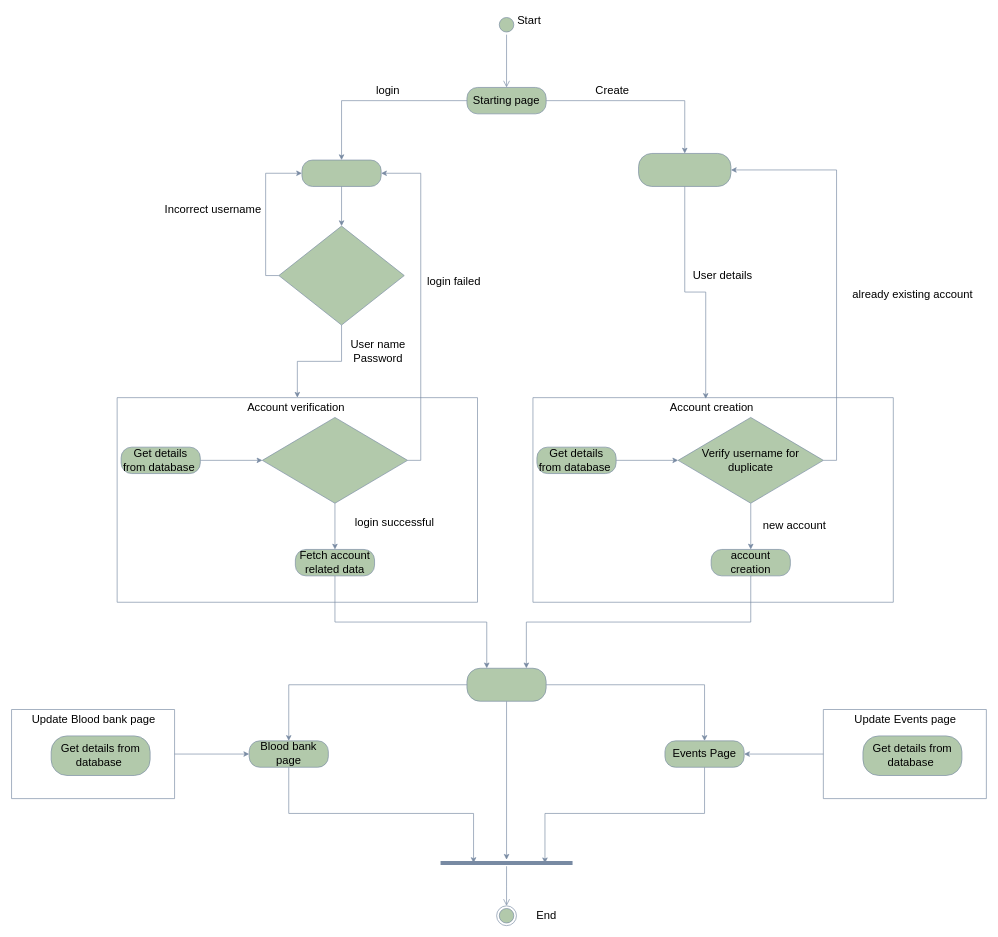
Some shapes in this 998 by 937 pixel diagram are drawn without their labels. The centre of each missing label's shape, as x and y in pixels:
Create account page: [684,169]
Get username and Password: [341,275]
Home Page: [506,684]
Login Page: [341,172]
Verify username and password: [335,460]
